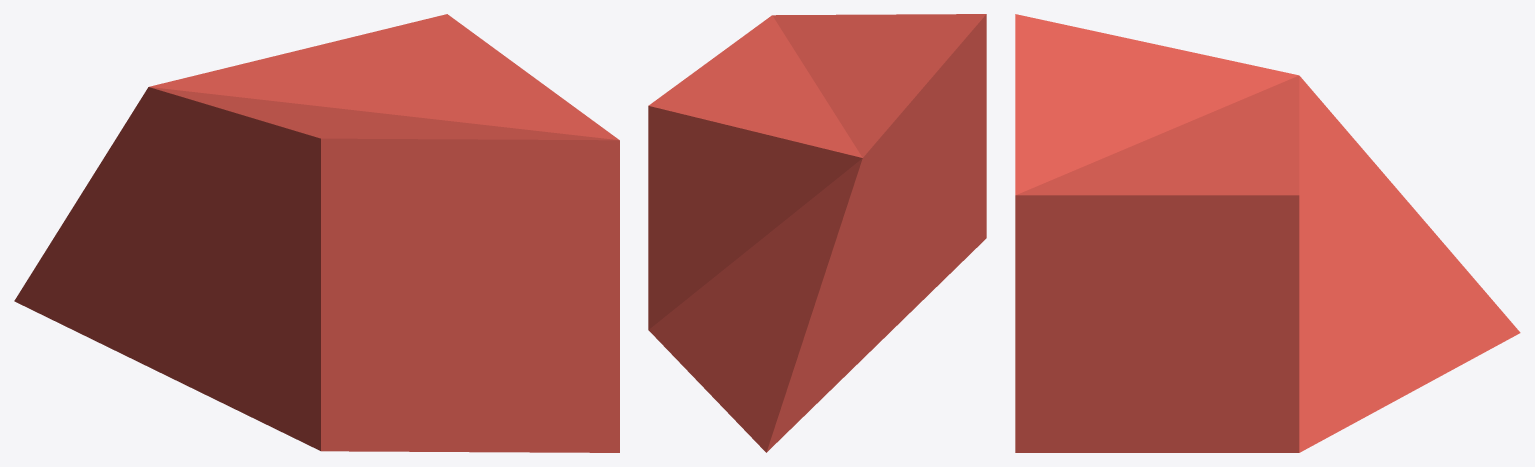
3 views of the same model, side by side, from view 1: azimuth 30°, elevation 25°; view 2: azimuth 150°, elevation 25°; view 3: azimuth 270°, elevation 25° (orthographic). The views are drawn at different scales.
Parts seen in each view (by area): view 1: Cube; view 2: Cube; view 3: Cube.
Part boxes in pixels (x1,y1,x2,y2): Cube: (14,14,619,452); Cube: (648,14,986,452); Cube: (1015,14,1520,452).
Bounding box in the file's own units: 2 × 3.56 × 2.48.
